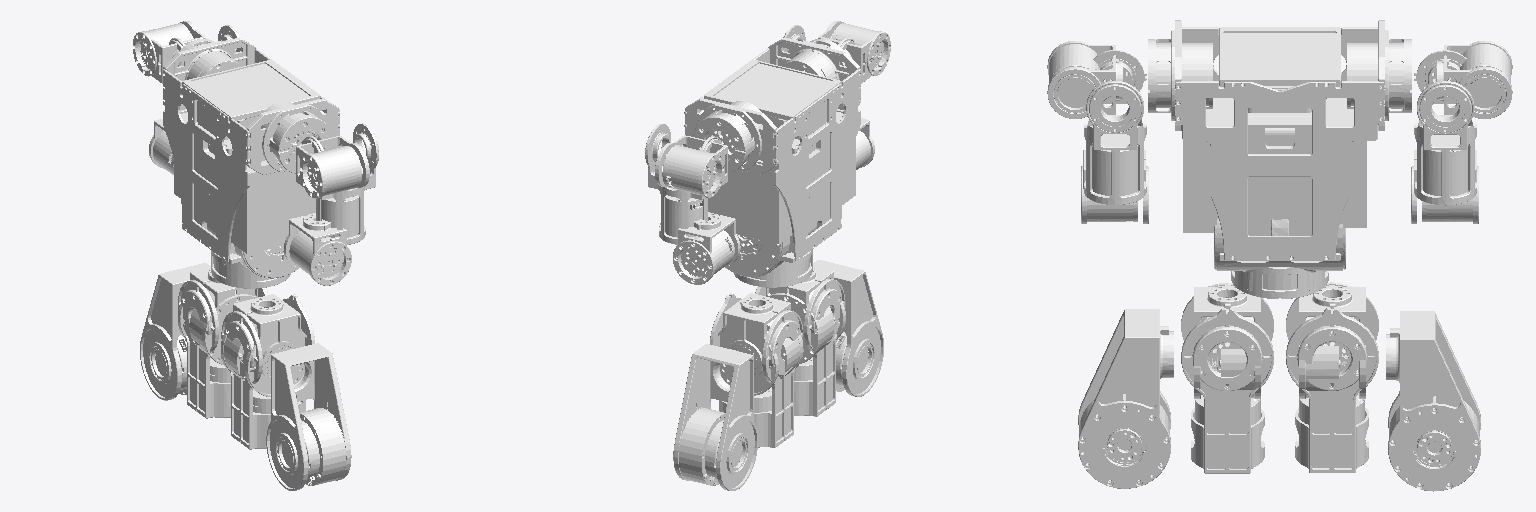
robot.urdf — RL_BOY:
<?xml version="1.0" encoding="utf-8"?>
<!-- This URDF was automatically created by SolidWorks to URDF Exporter! Originally created by Stephen Brawner (brawner@gmail.com) 
     Commit Version: 1.6.0-4-g7f85cfe  Build Version: 1.6.7995.38578
     For more information, please see http://wiki.ros.org/sw_urdf_exporter -->
<robot name="RL_BOY">
  <mujoco>
    <compiler meshdir="meshes/" balanceinertia="true" discardvisual="false" />
  </mujoco>
  <link name="base_link">
    <inertial>
      <origin xyz="-0.0068341 0 -0.00066845" rpy="0 0 0" />
      <mass value="1.5524024" />
      <inertia ixx="0.00443576" ixy="0" ixz="-7.824e-05" iyy="0.00291068" iyz="0" izz="0.00416971" />
    </inertial>
    <visual>
      <origin xyz="0 0 0" rpy="0 0 0" />
      <geometry>
        <mesh filename="./meshes/base_link.STL" />
      </geometry>
      <material name="">
        <color rgba="1 1 1 1" />
      </material>
    </visual>
    <collision>
      <origin xyz="-0.01 0 -0.05" rpy="0 0 0" />
      <geometry>
        <box size="0.13 0.13 0.14" />
      </geometry>
    </collision>
    <collision>
      <origin xyz="-0.01 0 0" rpy="0 0 0" />
      <geometry>
        <box size="0.13 0.18 0.05" />
      </geometry>
    </collision>
  </link>
  <link name="left_hip_yaw_link">
    <inertial>
      <origin xyz="-0.0049248 6.0504E-05 -0.037805" rpy="0 0 0" />
      <mass value="0.38839107" />
      <inertia ixx="0.00030408" ixy="5.6e-07" ixz="4.1e-06" iyy="0.00019525" iyz="-2e-07" izz="0.00017149" />
    </inertial>
    <visual>
      <origin xyz="0 0 0" rpy="0 0 0" />
      <geometry>
        <mesh filename="./meshes/left_hip_yaw_link.STL" />
      </geometry>
      <material name="">
        <color rgba="1 1 1 1" />
      </material>
    </visual>
    <!-- <collision>
      <origin xyz="0 0 0" rpy="0 0 0" />
      <geometry>
        <mesh filename="./meshes/left_hip_yaw_link.STL" />
      </geometry>
    </collision> -->
  </link>
  <joint name="left_hip_yaw_joint" type="revolute">
    <origin xyz="-0.012004 0.045 -0.0215" rpy="0 0 0" />
    <parent link="base_link" />
    <child link="left_hip_yaw_link" />
    <axis xyz="0 0 1" />
    <limit lower="-0.62" upper="0.62" effort="14" velocity="21" />
  </joint>
  <link name="left_hip_roll_link">
    <inertial>
      <origin xyz="0.00070722 0.02335 -0.0080221" rpy="0 0 0" />
      <mass value="0.06818185" />
      <inertia ixx="4.207e-05" ixy="6.52e-06" ixz="-2.03e-06" iyy="1.906e-05" iyz="8.2e-06" izz="3.37e-05" />
    </inertial>
    <visual>
      <origin xyz="0 0 0" rpy="0 0 0" />
      <geometry>
        <mesh filename="./meshes/left_hip_roll_link.STL" />
      </geometry>
      <material name="">
        <color rgba="1 1 1 1" />
      </material>
    </visual>
  </link>
  <joint name="left_hip_roll_joint" type="revolute">
    <origin xyz="0.010458 0 -0.044869" rpy="0 0 0" />
    <parent link="left_hip_yaw_link" />
    <child link="left_hip_roll_link" />
    <axis xyz="1 0 0" />
    <limit lower="-0.37" upper="0.41" effort="12" velocity="21" />
  </joint>
  <link name="left_hip_pitch_link">
    <inertial>
      <origin xyz="0.0028798 0.026896 -0.068731" rpy="0 0 0" />
      <mass value="1.285" />
      <inertia ixx="0.00764348" ixy="-7.97e-06" ixz="-1.88e-06" iyy="0.00831908" iyz="-1.244e-05" izz="0.00099704" />
    </inertial>
    <visual>
      <origin xyz="0 0 0" rpy="0 0 0" />
      <geometry>
        <mesh filename="./meshes/left_hip_pitch_link.STL" />
      </geometry>
      <material name="">
        <color rgba="1 1 1 1" />
      </material>
    </visual>
    <collision>
      <origin xyz="0 0.025 -0.07" rpy="0 0 0" />
      <geometry>
        <box size="0.1 0.04 0.16" />
      </geometry>
    </collision>
    <collision>
      <origin xyz="0 0.025 -0.15" rpy="1.57 0 0" />
      <geometry>
        <cylinder radius="0.045" length="0.04" />
      </geometry>
    </collision>
    <collision>
      <origin xyz="0 0.025 0.005" rpy="1.57 0 0" />
      <geometry>
        <cylinder radius="0.045" length="0.04" />
      </geometry>
    </collision>
  </link>
  <joint name="left_hip_pitch_joint" type="revolute">
    <origin xyz="-0.0105 0.047812 -0.015655" rpy="0 0 0" />
    <parent link="left_hip_roll_link" />
    <child link="left_hip_pitch_link" />
    <axis xyz="0 1 0" />
    <limit lower="-1.2" upper="1.2" effort="21" velocity="21" />
  </joint>
  <link name="left_knee_pitch_link">
    <inertial>
      <origin xyz="0.00028337 -2.3039E-05 -0.08296" rpy="0 0 0" />
      <mass value="0.62182839" />
      <inertia ixx="0.00152529" ixy="1.04e-06" ixz="-1.86e-06" iyy="0.00167204" iyz="0.00015643" izz="0.00032342" />
    </inertial>
    <visual>
      <origin xyz="0 0 0" rpy="0 0 0" />
      <geometry>
        <mesh filename="./meshes/left_knee_pitch_link.STL" />
      </geometry>
      <material name="">
        <color rgba="1 1 1 1" />
      </material>
    </visual>
  </link>
  <joint name="left_knee_pitch_joint" type="revolute">
    <origin xyz="0 0 -0.14738" rpy="0 0 0" />
    <parent link="left_hip_pitch_link" />
    <child link="left_knee_pitch_link" />
    <axis xyz="0 1 0" />
    <limit lower="-0.1" upper="2.2" effort="21" velocity="21" />
  </joint>
  <link name="left_ankle_pitch_link">
    <inertial>
      <origin xyz="0.01791 -0.010434 -0.027532" rpy="0 0 0" />
      <mass value="0.096" />
      <inertia ixx="4.175e-05" ixy="5.31e-06" ixz="3.8e-07" iyy="0.00020541" iyz="-3.18e-06" izz="0.00020888" />
    </inertial>
    <visual>
      <origin xyz="0 0 0" rpy="0 0 0" />
      <geometry>
        <mesh filename="./meshes/left_ankle_pitch_link.STL" />
      </geometry>
      <material name="">
        <color rgba="1 1 1 1" />
      </material>
    </visual>
    <collision>
      <origin xyz="0.01 -0.01 -0.03" rpy="0 0 0" />
      <geometry>
        <box size="0.13 0.05 0.035" />
      </geometry>
    </collision>
  </link>
  <joint name="left_ankle_pitch_joint" type="revolute">
    <origin xyz="0.00012432 0.026 -0.14055" rpy="0 0 0" />
    <parent link="left_knee_pitch_link" />
    <child link="left_ankle_pitch_link" />
    <axis xyz="0 1 0" />
    <limit lower="-0.9" upper="0.9" effort="14" velocity="21" />
  </joint>
  <link name="right_hip_yaw_link">
    <inertial>
      <origin xyz="-0.0049208 1.8037E-05 -0.037908" rpy="0 0 0" />
      <mass value="0.38839126" />
      <inertia ixx="0.00030433" ixy="2e-07" ixz="3.33e-06" iyy="0.00019576" iyz="-4e-08" izz="0.00017124" />
    </inertial>
    <visual>
      <origin xyz="0 0 0" rpy="0 0 0" />
      <geometry>
        <mesh filename="./meshes/right_hip_yaw_link.STL" />
      </geometry>
      <material name="">
        <color rgba="1 1 1 1" />
      </material>
    </visual>
    <!-- <collision>
      <origin xyz="0 0 0" rpy="0 0 0" />
      <geometry>
        <mesh filename="./meshes/right_hip_yaw_link.STL" />
      </geometry>
    </collision> -->
  </link>
  <joint name="right_hip_yaw_joint" type="revolute">
    <origin xyz="-0.012004 -0.045 -0.0215" rpy="0 0 0" />
    <parent link="base_link" />
    <child link="right_hip_yaw_link" />
    <axis xyz="0 0 1" />
    <limit lower="-0.62" upper="0.62" effort="14" velocity="21" />
  </joint>
  <link name="right_hip_roll_link">
    <inertial>
      <origin xyz="-0.00029278 -0.023373 -0.0079539" rpy="0 0 0" />
      <mass value="0.06818185" />
      <inertia ixx="4.207e-05" ixy="-6.53e-06" ixz="-2.01e-06" iyy="1.901e-05" iyz="-8.16e-06" izz="3.375e-05" />
    </inertial>
    <visual>
      <origin xyz="0 0 0" rpy="0 0 0" />
      <geometry>
        <mesh filename="./meshes/right_hip_roll_link.STL" />
      </geometry>
      <material name="">
        <color rgba="1 1 1 1" />
      </material>
    </visual>
  </link>
  <joint name="right_hip_roll_joint" type="revolute">
    <origin xyz="0.011458 0 -0.044869" rpy="0 0 0" />
    <parent link="right_hip_yaw_link" />
    <child link="right_hip_roll_link" />
    <axis xyz="1 0 0" />
    <limit lower="-0.41" upper="0.37" effort="12" velocity="21" />
  </joint>
  <link name="right_hip_pitch_link">
    <inertial>
      <origin xyz="-0.0029487 -0.020467 -0.072574" rpy="0 0 0" />
      <mass value="1.4171108 " />
      <inertia ixx="0.00815934" ixy="1.38e-05" ixz="-0.00037173" iyy="0.00891871" iyz="-1.307e-05" izz="0.00115415" />
    </inertial>
    <visual>
      <origin xyz="0 0 0" rpy="0 0 0" />
      <geometry>
        <mesh filename="./meshes/right_hip_pitch_link.STL" />
      </geometry>
      <material name="">
        <color rgba="1 1 1 1" />
      </material>
    </visual>
    <collision>
      <origin xyz="0 -0.025 -0.07" rpy="0 0 0" />
      <geometry>
        <box size="0.1 0.04 0.16" />
      </geometry>
    </collision>
    <collision>
      <origin xyz="0 -0.025 -0.15" rpy="1.57 0 0" />
      <geometry>
        <cylinder radius="0.045" length="0.04" />
      </geometry>
    </collision>
    <collision>
      <origin xyz="0 -0.025 0.005" rpy="1.57 0 0" />
      <geometry>
        <cylinder radius="0.045" length="0.04" />
      </geometry>
    </collision>
  </link>
  <joint name="right_hip_pitch_joint" type="revolute">
    <origin xyz="-0.0115 -0.048352 -0.013358" rpy="0 0 0" />
    <parent link="right_hip_roll_link" />
    <child link="right_hip_pitch_link" />
    <axis xyz="0 1 0" />
    <limit lower="-1.2" upper="1.2" effort="21" velocity="21" />
  </joint>
  <link name="right_knee_pitch_link">
    <inertial>
      <origin xyz="0.000126592107821219 -0.00132176879731324 -0.0951083898058556" rpy="0 0 0" />
      <mass value=" 0.62182825" />
      <inertia ixx="0.00152506" ixy="-9.5e-07" ixz="-2.13e-06" iyy="0.00167104" iyz="-0.00016039" izz="0.00032448" />
    </inertial>
    <visual>
      <origin xyz="0 0 0" rpy="0 0 0" />
      <geometry>
        <mesh filename="./meshes/right_knee_pitch_link.STL" />
      </geometry>
      <material name="">
        <color rgba="1 1 1 1" />
      </material>
    </visual>
  </link>
  <joint name="right_knee_pitch_joint" type="revolute">
    <origin xyz="-0.0077589 -0.00042926 -0.14717" rpy="0 0 0" />
    <parent link="right_hip_pitch_link" />
    <child link="right_knee_pitch_link" />
    <axis xyz="0 1 0" />
    <limit lower="-0.1" upper="2.2" effort="21" velocity="21" />
    <safety_controller soft_upper_limit="2.2" soft_lower_limit="-0.05" k_position="21" k_velocity="21" />
  </joint>
  <link name="right_ankle_pitch_link">
    <inertial>
      <origin xyz="0.0180472426455031 0.00885135828132654 -0.0282361295461919" rpy="0 0 0" />
      <mass value="0.096 " />
      <inertia ixx="4.179e-05" ixy="-5.26e-06" ixz="2.71e-06" iyy="0.00020542" iyz="3.26e-06" izz="0.00020882" />
    </inertial>
    <visual>
      <origin xyz="0 0 0" rpy="0 0 0" />
      <geometry>
        <mesh filename="./meshes/right_ankle_pitch_link.STL" />
      </geometry>
      <material name="">
        <color rgba="1 1 1 1" />
      </material>
    </visual>
    <collision>
      <origin xyz="0.01 0.01 -0.03" rpy="0 0 0" />
      <geometry>
        <box size="0.13 0.05 0.035" />
      </geometry>
    </collision>
  </link>
  <joint name="right_ankle_pitch_joint" type="revolute">
    <origin xyz="-0.00039541 -0.024909 -0.14005" rpy="0 0 0" />
    <parent link="right_knee_pitch_link" />
    <child link="right_ankle_pitch_link" />
    <axis xyz="0 1 0" />
    <limit lower="-0.9" upper="0.9" effort="14" velocity="21" />
  </joint>
  <link name="waist_yaw_link">
    <inertial>
      <origin xyz="0.00766935409407382 0 0.129591637736552" rpy="0 0 0" />
      <mass value="2.1975996" />
      <inertia ixx="0.01274514" ixy="0" ixz="0.00047424" iyy="0.00915517" iyz="0" izz="0.00887444" />
    </inertial>
    <visual>
      <origin xyz="0 0 0" rpy="0 0 0" />
      <geometry>
        <mesh filename="./meshes/waist_yaw_link.STL" />
      </geometry>
      <material name="">
        <color rgba="1 1 1 1" />
      </material>
    </visual>
    <collision>
      <origin xyz="0 0 0.135" rpy="0 0 0" />
      <geometry>
        <box size="0.14 0.18 0.12" />
      </geometry>
    </collision>
  </link>
  <joint name="waist_yaw_joint" type="revolute">
    <origin xyz="-0.0050037 0 0.0155" rpy="0 0 0" />
    <parent link="base_link" />
    <child link="waist_yaw_link" />
    <axis xyz="0 0 1" />
    <limit lower="-0.8" upper="0.8" effort="14" velocity="21" />
  </joint>
  <link name="left_shoulder_pitch_link">
    <inertial>
      <origin xyz="0.000429914370268472 0.0262641836007404 0.00046752498931589" rpy="0 0 0" />
      <mass value="0.186 " />
      <inertia ixx="5.731e-05" ixy="-2.7e-07" ixz="-7e-08" iyy="5.082e-05" iyz="-2.7e-07" izz="5.054e-05" />
    </inertial>
    <visual>
      <origin xyz="0 0 0" rpy="0 0 0" />
      <geometry>
        <mesh filename="./meshes/left_shoulder_pitch_link.STL" />
      </geometry>
      <material name="">
        <color rgba="1 1 1 1" />
      </material>
    </visual>
  </link>
  <joint name="left_shoulder_pitch_joint" type="revolute">
    <origin xyz="0 0.1139 0.1685" rpy="0 0 0" />
    <parent link="waist_yaw_link" />
    <child link="left_shoulder_pitch_link" />
    <axis xyz="0 1 0" />
    <limit lower="-2.793" upper="2.793" effort="5" velocity="21" />
  </joint>
  <link name="left_shoulder_roll_link">
    <inertial>
      <origin xyz="-0.0158815168816101 0.000149139681466764 -0.0407115407833609" rpy="0 0 0" />
      <mass value="0.186" />
      <inertia ixx="8.304e-05" ixy="1.4e-07" ixz="-1.852e-05" iyy="9.062e-05" iyz="-7e-08" izz="5.939e-05" />
    </inertial>
    <visual>
      <origin xyz="0 0 0" rpy="0 0 0" />
      <geometry>
        <mesh filename="./meshes/left_shoulder_roll_link.STL" />
      </geometry>
      <material name="">
        <color rgba="1 1 1 1" />
      </material>
    </visual>
    <collision>
      <origin xyz="-0.02 0 -0.045" rpy="0 0 0" />
      <geometry>
        <cylinder length="0.1" radius="0.025" />
      </geometry>
    </collision>
    <collision>
      <origin xyz="-0.02 0 0.005" rpy="0 0 0" />
      <geometry>
        <sphere radius="0.03" />
      </geometry>
    </collision>
    
  </link>
  <joint name="left_shoulder_roll_joint" type="revolute">
    <origin xyz="0.021603 0.027929 0.00039063" rpy="0 0 0" />
    <parent link="left_shoulder_pitch_link" />
    <child link="left_shoulder_roll_link" />
    <axis xyz="1 0 0" />
    <limit lower="-0.2" upper="2.0" effort="5" velocity="21" />
  </joint>
  <link name="left_shoulder_yaw_link">
    <inertial>
      <origin xyz="-0.00233028000080568 0.00252087487153083 -0.034259704697803" rpy="0 0 0" />
      <mass value="0.226" />
      <inertia ixx="0.00019244" ixy="-1.07e-06" ixz="2.82e-06" iyy="0.00019055" iyz="-9.4e-07" izz="7.525e-05" />
    </inertial>
    <visual>
      <origin xyz="0 0 0" rpy="0 0 0" />
      <geometry>
        <mesh filename="./meshes/left_shoulder_yaw_link.STL" />
      </geometry>
      <material name="">
        <color rgba="1 1 1 1" />
      </material>
    </visual>
  </link>
  <joint name="left_shoulder_yaw_joint" type="revolute">
    <origin xyz="-0.022771 0.0001351 -0.075197" rpy="0 0 0" />
    <parent link="left_shoulder_roll_link" />
    <child link="left_shoulder_yaw_link" />
    <axis xyz="0 0 1" />
    <limit lower="-0.5" upper="0.5" effort="5" velocity="21" />
  </joint>
  <link name="left_elbow_pitch_link">
    <inertial>
      <origin xyz="0.075521700943755 0.0130833500262611 0.000382990510718252" rpy="0 0 0" />
      <mass value="0.105" />
      <inertia ixx="3.61e-05" ixy="-9.64e-06" ixz="-3.3e-07" iyy="0.0002525" iyz="-1.5e-07" izz="0.00025009" />
    </inertial>
    <visual>
      <origin xyz="0 0 0" rpy="0 0 0" />
      <geometry>
        <mesh filename="./meshes/left_elbow_pitch_link.STL" />
      </geometry>
      <material name="">
        <color rgba="1 1 1 1" />
      </material>
    </visual>
    <collision>
      <!-- Simplified: cylinder + spheres approximating elbow link shape -->
      <!-- COM: 0.076 0.013 0.0, cylinder along X-axis -->
      <origin xyz="0.076 0.013 0.0" rpy="0 1.57 0" />
      <geometry>
        <cylinder radius="0.02" length="0.12" />
      </geometry>
    </collision>
    <collision>
      <origin xyz="0.006 0.013 0.0" rpy="0 0 0" />
      <geometry>
        <sphere radius="0.025" />
      </geometry>
    </collision>
    <collision>
      <origin xyz="0.136 0.013 0.0" rpy="0 0 0" />
      <geometry>
        <sphere radius="0.025" />
      </geometry>
    </collision>
  </link>
  <joint name="left_elbow_pitch_joint" type="revolute">
    <origin xyz="-0.00051802 -0.020671 -0.063763" rpy="0 0 0" />
    <parent link="left_shoulder_yaw_link" />
    <child link="left_elbow_pitch_link" />
    <axis xyz="0 1 0" />
    <limit lower="-1" upper="1.57" effort="5" velocity="21" />
  </joint>
  <link name="right_shoulder_pitch_link">
    <inertial>
      <origin xyz="0.00042984305500357 -0.0261706167503425 0.000519939729923702" rpy="0 0 0" />
      <mass value="0.186" />
      <inertia ixx="5.728e-05" ixy="6.2e-07" ixz="1.3e-07" iyy="5.099e-05" iyz="1.7e-07" izz="5.034e-05" />
    </inertial>
    <visual>
      <origin xyz="0 0 0" rpy="0 0 0" />
      <geometry>
        <mesh filename="./meshes/right_shoulder_pitch_link.STL" />
      </geometry>
      <material name="">
        <color rgba="1 1 1 1" />
      </material>
    </visual>
  </link>
  <joint name="right_shoulder_pitch_joint" type="revolute">
    <origin xyz="0 -0.1139 0.1685" rpy="0 0 0" />
    <parent link="waist_yaw_link" />
    <child link="right_shoulder_pitch_link" />
    <axis xyz="0 1 0" />
    <limit lower="-2.793" upper="2.793" effort="5" velocity="21" />
  </joint>
  <link name="right_shoulder_roll_link">
    <inertial>
      <origin xyz="-0.0158403302802371 -9.23318084443958E-05 -0.0407116397577024" rpy="0 0 0" />
      <mass value="0.186" />
      <inertia ixx="8.325e-05" ixy="-4e-08" ixz="-1.864e-05" iyy="9.036e-05" iyz="-9e-08" izz="5.935e-05" />
    </inertial>
    <visual>
      <origin xyz="0 0 0" rpy="0 0 0" />
      <geometry>
        <mesh filename="./meshes/right_shoulder_roll_link.STL" />
      </geometry>
      <material name="">
        <color rgba="1 1 1 1" />
      </material>
    </visual>
    <collision>
      <origin xyz="-0.02 0 -0.045" rpy="0 0 0" />
      <geometry>
        <cylinder length="0.1" radius="0.025" />
      </geometry>
    </collision>
    <collision>
      <origin xyz="-0.02 0 0.005" rpy="0 0 0" />
      <geometry>
        <sphere radius="0.03" />
      </geometry>
    </collision>
  </link>
  <joint name="right_shoulder_roll_joint" type="revolute">
    <origin xyz="0.021603 -0.027929 0.00039063" rpy="0 0 0" />
    <parent link="right_shoulder_pitch_link" />
    <child link="right_shoulder_roll_link" />
    <axis xyz="1 0 0" />
    <limit lower="-2.0" upper="0.2" effort="5" velocity="21" />
  </joint>
  <link name="right_shoulder_yaw_link">
    <inertial>
      <origin xyz="-0.00236315972253617 -0.0024954302365221 -0.0340295124127358" rpy="0 0 0" />
      <mass value="0.226" />
      <inertia ixx="0.00019048" ixy="8.5e-07" ixz="2.56e-06" iyy="0.00018836" iyz="1e-06" izz="7.498e-05" />
    </inertial>
    <visual>
      <origin xyz="0 0 0" rpy="0 0 0" />
      <geometry>
        <mesh filename="./meshes/right_shoulder_yaw_link.STL" />
      </geometry>
      <material name="">
        <color rgba="1 1 1 1" />
      </material>
    </visual>
  </link>
  <joint name="right_shoulder_yaw_joint" type="revolute">
    <origin xyz="-0.022771 -0.0001351 -0.075197" rpy="0 0 0" />
    <parent link="right_shoulder_roll_link" />
    <child link="right_shoulder_yaw_link" />
    <axis xyz="0 0 1" />
    <limit lower="-0.5" upper="0.5" effort="5" velocity="21" />
  </joint>
  <link name="right_elbow_pitch_link">
    <inertial>
      <origin xyz="0.0754074095645093 -0.0130595139222775 0.00164384360473727" rpy="0 0 0" />
      <mass value="0.105" />
      <inertia ixx="3.618e-05" ixy="9.81e-06" ixz="-3.92e-06" iyy="0.00025296" iyz="3.1e-07" izz="0.00025053" />
    </inertial>
    <visual>
      <origin xyz="0 0 0" rpy="0 0 0" />
      <geometry>
        <mesh filename="./meshes/right_elbow_pitch_link.STL" />
      </geometry>
      <material name="">
        <color rgba="1 1 1 1" />
      </material>
    </visual>
    <collision>
      <origin xyz="0.076 -0.013 0.0016" rpy="0 1.57 0" />
      <geometry>
        <cylinder radius="0.02" length="0.12" />
      </geometry>
    </collision>
    <collision>
      <origin xyz="0.006 -0.013 0.0016" rpy="0 0 0" />
      <geometry>
        <sphere radius="0.025" />
      </geometry>
    </collision>
    <collision>
      <origin xyz="0.136 -0.013 0.0016" rpy="0 0 0" />
      <geometry>
        <sphere radius="0.025" />
      </geometry>
    </collision>
  </link>
  <joint name="right_elbow_pitch_joint" type="revolute">
    <origin xyz="-0.00051869 0.020671 -0.063257" rpy="0 0 0" />
    <parent link="right_shoulder_yaw_link" />
    <child link="right_elbow_pitch_link" />
    <axis xyz="0 1 0" />
    <limit lower="-1" upper="1.57" effort="5" velocity="21" />
  </joint>
  <link name="head_yaw_link">
    <inertial>
      <origin xyz="-0.0145353626175872 0 0.052966639815973" rpy="0 0 0" />
      <mass value="0.62157092" />
      <inertia ixx="0.00272342" ixy="0" ixz="0.00016772" iyy="0.00273908" iyz="0" izz="0.00332125" />
    </inertial>
    <visual>
      <origin xyz="0 0 0" rpy="0 0 0" />
      <geometry>
        <mesh filename="./meshes/head_yaw_link.STL" />
      </geometry>
      <material name="">
        <color rgba="1 1 1 1" />
      </material>
    </visual>
    <collision>
      <origin xyz="0 0 0.05" rpy="0 0 0" />
      <geometry>
        <sphere radius="0.1" />
      </geometry>
    </collision>
  </link>
  <joint name="head_yaw_joint" type="revolute">
    <origin xyz="0.0054958 0 0.2464" rpy="0 0 0" />
    <parent link="waist_yaw_link" />
    <child link="head_yaw_link" />
    <axis xyz="0 0 1" />
    <limit lower="-1" upper="1" effort="5" velocity="21" />
  </joint>
</robot>

--- Render facts (derived) ---
Views: 3 orthographic renders of the robot side by side, from view 1: azimuth 30°, elevation 25°; view 2: azimuth 150°, elevation 25°; view 3: azimuth 270°, elevation 25°.
Robot: RL_BOY — 21 links, 20 joints (20 revolute); root link base_link; default pose: all joints at 0.
Links seen in each view (by area): view 1: waist_yaw_link, right_hip_pitch_link, left_hip_pitch_link, right_hip_roll_link, left_hip_roll_link, right_hip_yaw_link, right_shoulder_pitch_link, right_shoulder_yaw_link, right_shoulder_roll_link, left_hip_yaw_link, left_shoulder_pitch_link, base_link (+1 smaller); view 2: waist_yaw_link, left_hip_pitch_link, right_hip_pitch_link, left_hip_roll_link, right_hip_roll_link, left_hip_yaw_link, left_shoulder_pitch_link, left_shoulder_yaw_link, left_shoulder_roll_link, right_hip_yaw_link, right_shoulder_pitch_link, base_link (+1 smaller); view 3: waist_yaw_link, right_hip_pitch_link, left_hip_pitch_link, right_hip_roll_link, left_hip_roll_link, right_shoulder_roll_link, left_shoulder_roll_link, right_shoulder_pitch_link, left_shoulder_pitch_link, left_hip_yaw_link, right_hip_yaw_link, base_link (+2 smaller).
Link boxes in pixels (x1=…): waist_yaw_link: x1=163, y1=37, x2=339, y2=288; right_hip_pitch_link: x1=266, y1=343, x2=351, y2=490; left_hip_pitch_link: x1=140, y1=263, x2=210, y2=400; right_hip_roll_link: x1=221, y1=294, x2=314, y2=449; left_hip_roll_link: x1=178, y1=280, x2=267, y2=418; right_hip_yaw_link: x1=221, y1=294, x2=306, y2=396; right_shoulder_pitch_link: x1=296, y1=136, x2=369, y2=198; right_shoulder_yaw_link: x1=284, y1=213, x2=351, y2=285; right_shoulder_roll_link: x1=302, y1=123, x2=378, y2=244; left_hip_yaw_link: x1=178, y1=267, x2=258, y2=364; left_shoulder_pitch_link: x1=133, y1=21, x2=205, y2=83; base_link: x1=234, y1=245, x2=298, y2=278; waist_yaw_link: x1=684, y1=37, x2=860, y2=287; left_hip_pitch_link: x1=673, y1=344, x2=757, y2=490; right_hip_pitch_link: x1=813, y1=260, x2=883, y2=396; left_hip_roll_link: x1=710, y1=293, x2=802, y2=447; right_hip_roll_link: x1=755, y1=279, x2=844, y2=416; left_hip_yaw_link: x1=718, y1=293, x2=803, y2=395; left_shoulder_pitch_link: x1=655, y1=135, x2=727, y2=197; left_shoulder_yaw_link: x1=673, y1=212, x2=740, y2=284; left_shoulder_roll_link: x1=645, y1=124, x2=721, y2=244; right_hip_yaw_link: x1=766, y1=267, x2=845, y2=363; right_shoulder_pitch_link: x1=818, y1=21, x2=890, y2=83; base_link: x1=725, y1=234, x2=789, y2=276; waist_yaw_link: x1=1148, y1=20, x2=1411, y2=298; right_hip_pitch_link: x1=1078, y1=309, x2=1173, y2=488; left_hip_pitch_link: x1=1386, y1=311, x2=1480, y2=491; right_hip_roll_link: x1=1181, y1=283, x2=1273, y2=473; left_hip_roll_link: x1=1286, y1=282, x2=1378, y2=472; right_shoulder_roll_link: x1=1084, y1=50, x2=1146, y2=204; left_shoulder_roll_link: x1=1414, y1=50, x2=1476, y2=205; right_shoulder_pitch_link: x1=1047, y1=41, x2=1122, y2=118; left_shoulder_pitch_link: x1=1437, y1=41, x2=1512, y2=118; left_hip_yaw_link: x1=1299, y1=285, x2=1365, y2=398; right_hip_yaw_link: x1=1194, y1=285, x2=1260, y2=398; base_link: x1=1214, y1=219, x2=1345, y2=290.
Bounding box of the posed robot: 0.1171 × 0.3994 × 0.4189 m (x, y, z).
14 mesh visuals loaded from 21 distinct referenced files (14 binary STL); not drawn: 7 (reference not matched to a file when rendering).
